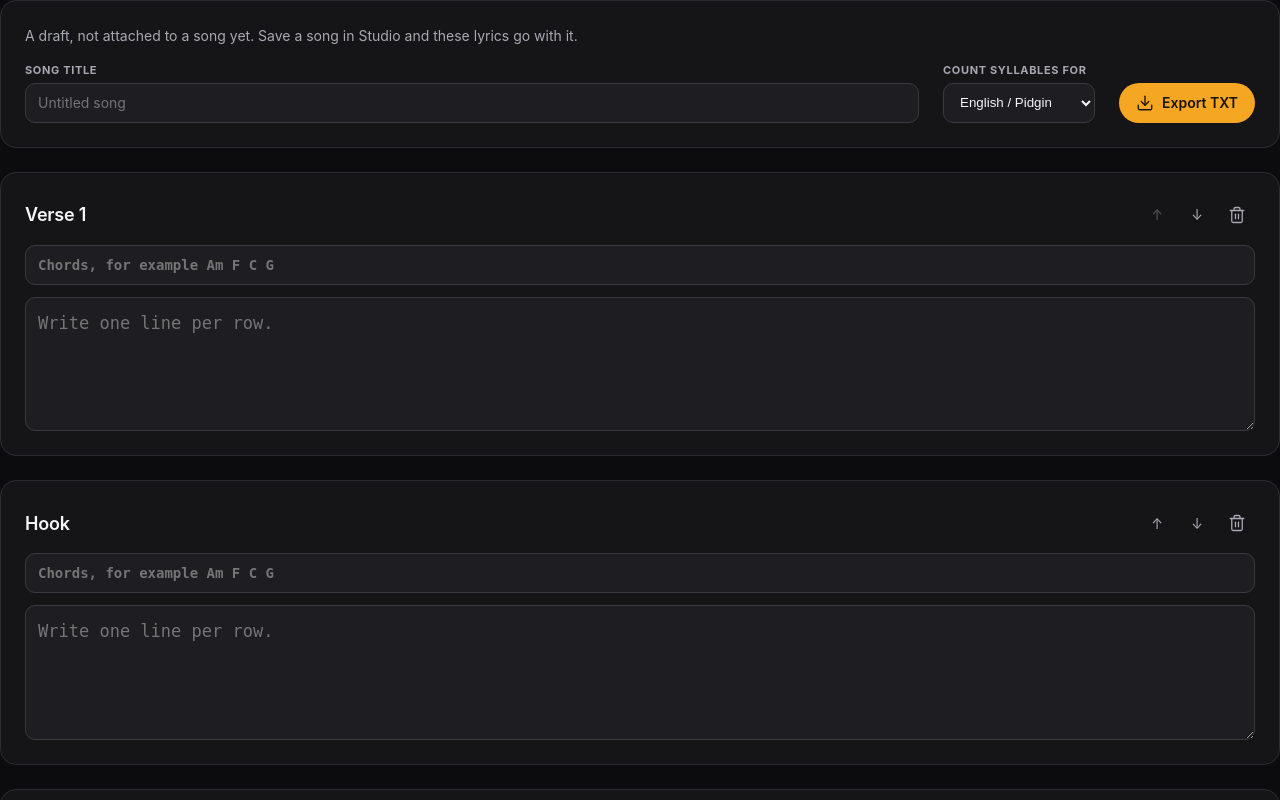
Scenario: Lyrics panel › switching to Luganda / Swahili counts every vowel
Type "mia" into the text box named "Hook lyrics" at (640, 673), box top-left (25, 605), bottom-right (1255, 740)
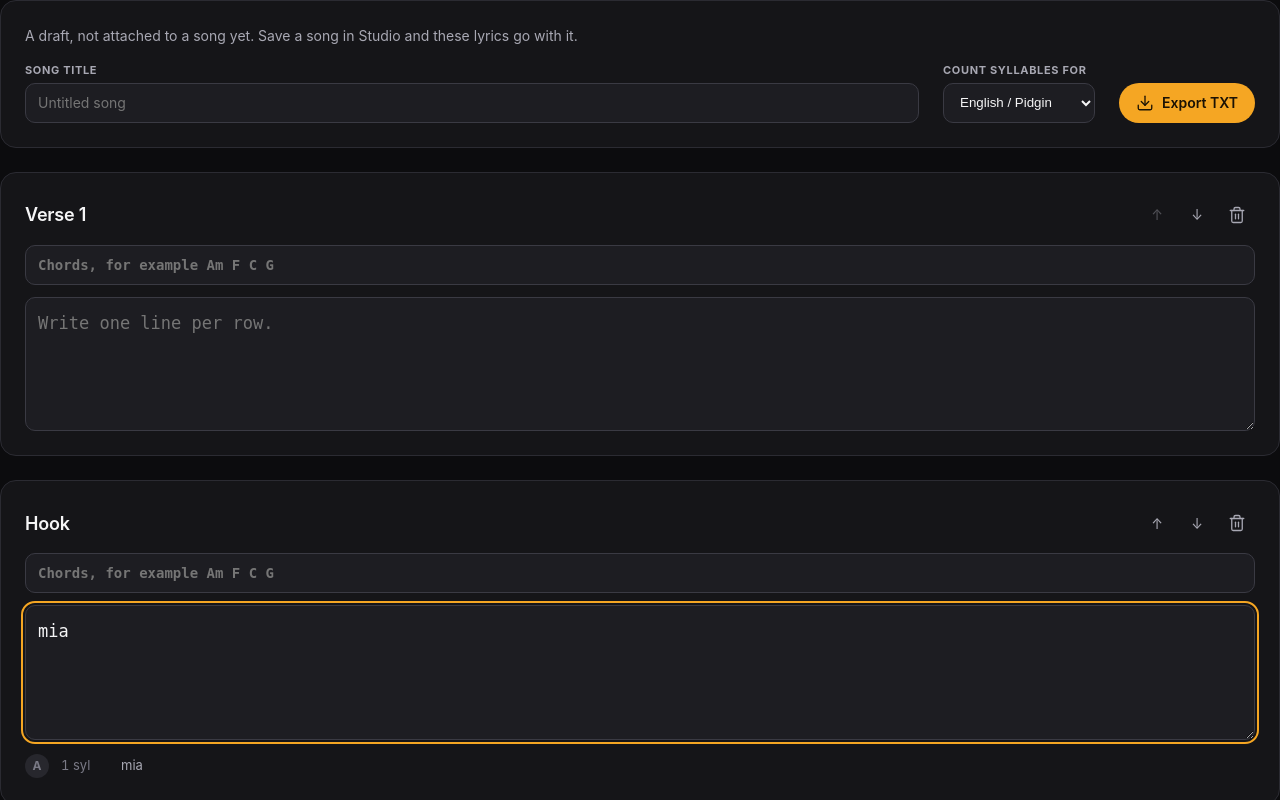
Expected: the list named "Hook line check" shows "1 syl", top-left (25, 754), bottom-right (143, 778)
Select "Luganda / Swahili" in the dropdown labelled "Count syllables for" at (1019, 102), box top-left (943, 82), bottom-right (1095, 122)
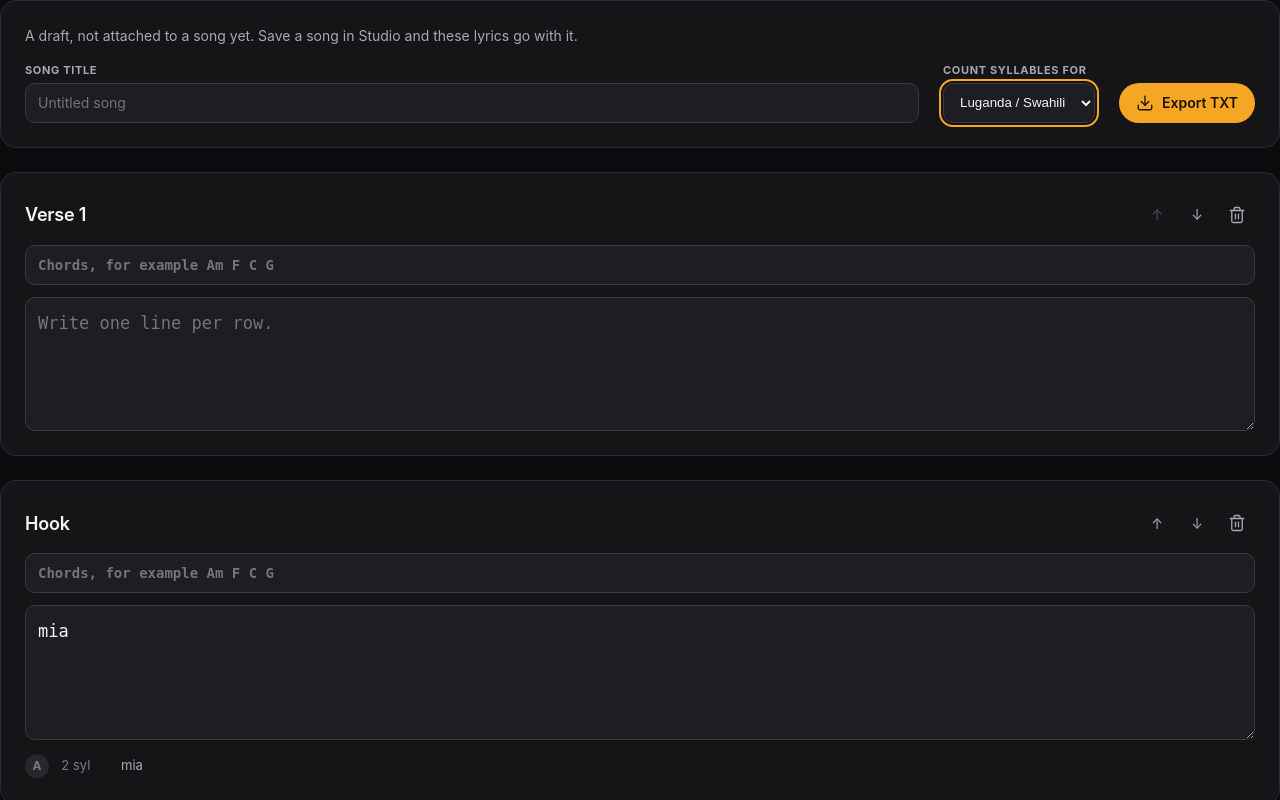
Expected: the list named "Hook line check" shows "2 syl", top-left (25, 754), bottom-right (143, 778)
